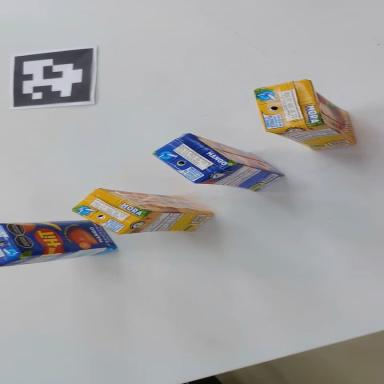HIT-MANGO: (149, 125, 287, 209), (0, 210, 117, 267)
HIT-MORA: (253, 73, 357, 157), (71, 186, 214, 245)
cara_F: (1, 212, 117, 259), (296, 81, 369, 147), (186, 133, 287, 178), (98, 188, 211, 217)
